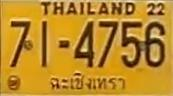1: (41, 20, 46, 67)
4: (74, 20, 94, 66)
5: (120, 20, 141, 67)
6: (143, 21, 164, 67)
7: (10, 20, 30, 67), (98, 20, 118, 67)
CCO: (50, 71, 128, 91)
